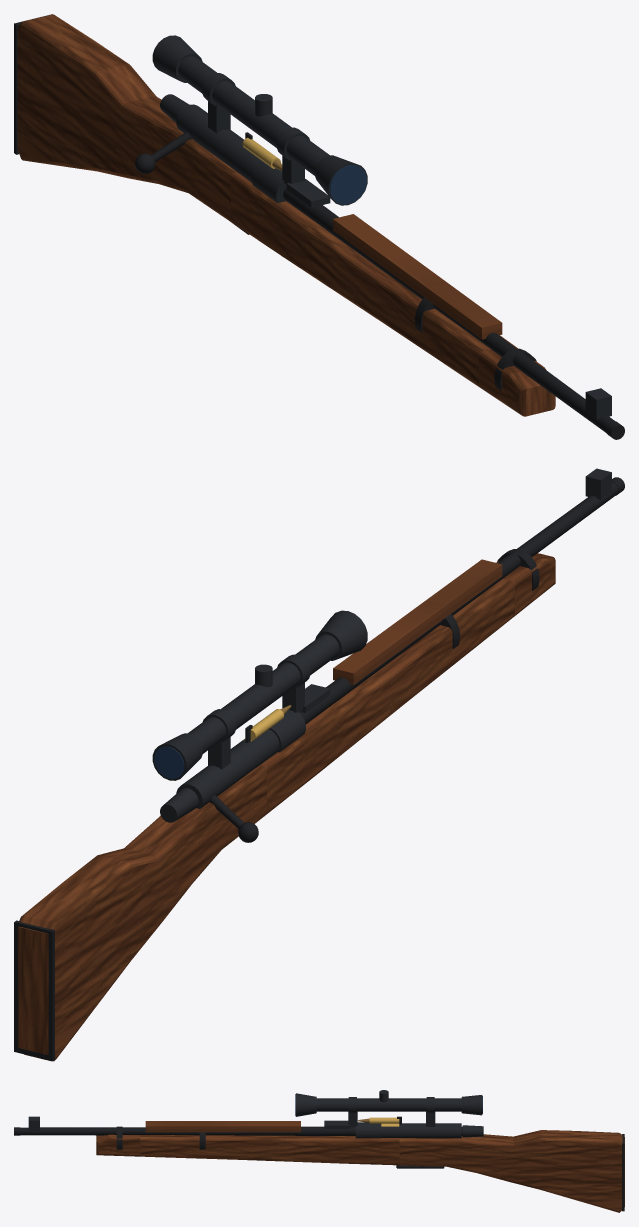
Rendered from kar.glb.
3 renders of one model, top to bottom at view 1: azimuth 30°, elevation 25°; view 2: azimuth 150°, elevation 25°; view 3: azimuth 270°, elevation 25°, orthographic. The views are drawn at different scales.
Parts seen in each view (by area): view 1: kar_n0, kar_n1, kar_n15, kar_n3, kar_n5, kar_n16, kar_n19, kar_n6, kar_n17, kar_n10, kar_n9; view 2: kar_n0, kar_n1, kar_n15, kar_n3, kar_n5, kar_n2, kar_n17, kar_n16, kar_n6, kar_n27; view 3: kar_n0, kar_n3, kar_n1, kar_n15, kar_n5, kar_n6, kar_n17, kar_n16, kar_n27, kar_n2, kar_n10, kar_n47.
Boxes of the visible parts, bbox=[...] form: kar_n0: bbox=[17, 14, 555, 416]; kar_n1: bbox=[333, 214, 502, 339]; kar_n15: bbox=[178, 56, 329, 175]; kar_n3: bbox=[283, 188, 614, 432]; kar_n5: bbox=[176, 104, 261, 182]; kar_n16: bbox=[152, 35, 202, 82]; kar_n19: bbox=[330, 165, 366, 204]; kar_n6: bbox=[251, 161, 286, 202]; kar_n17: bbox=[315, 155, 367, 205]; kar_n10: bbox=[286, 179, 330, 207]; kar_n9: bbox=[585, 388, 611, 419]; kar_n0: bbox=[18, 553, 555, 1061]; kar_n1: bbox=[333, 559, 502, 684]; kar_n15: bbox=[188, 634, 339, 753]; kar_n3: bbox=[299, 482, 618, 723]; kar_n5: bbox=[176, 729, 279, 808]; kar_n2: bbox=[14, 920, 54, 1061]; kar_n17: bbox=[315, 610, 367, 660]; kar_n16: bbox=[152, 733, 202, 780]; kar_n6: bbox=[269, 709, 305, 752]; kar_n27: bbox=[160, 788, 198, 822]; kar_n0: bbox=[96, 1130, 624, 1212]; kar_n3: bbox=[20, 1126, 355, 1135]; kar_n1: bbox=[145, 1121, 300, 1132]; kar_n15: bbox=[316, 1098, 461, 1111]; kar_n5: bbox=[381, 1123, 461, 1138]; kar_n6: bbox=[355, 1122, 381, 1138]; kar_n17: bbox=[296, 1093, 316, 1116]; kar_n16: bbox=[461, 1095, 482, 1115]; kar_n27: bbox=[462, 1125, 483, 1137]; kar_n2: bbox=[622, 1134, 624, 1211]; kar_n10: bbox=[324, 1120, 350, 1128]; kar_n47: bbox=[369, 1117, 399, 1123].
Size of the model in its own units: 9.34 by 24.98 by 118.
10 materials, 1 textured.
